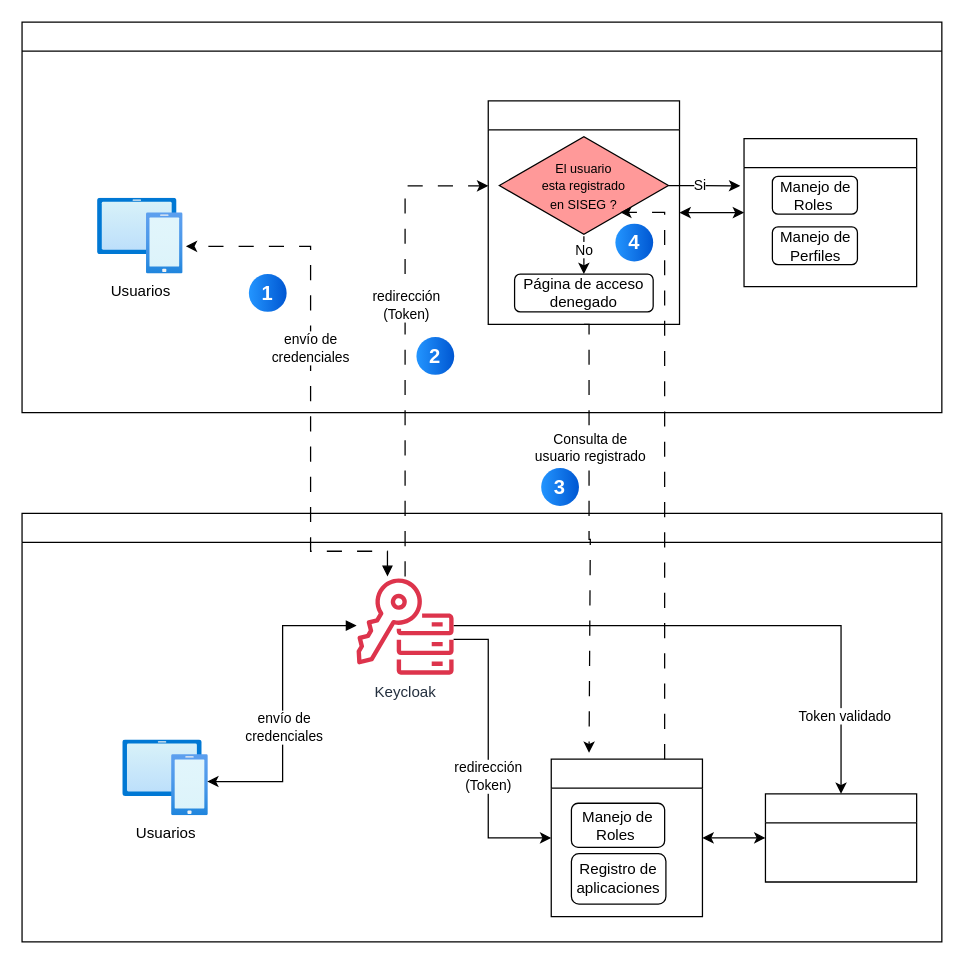
Image size: 964x964. Some labels were removed from this diagram. Each missing label, with the box of its shape:
Antiguo SIGED: (21, 512, 942, 942)
NSIGED- Backend: (743, 137, 917, 287)
NSIGED- Fronted: (487, 100, 680, 324)
NuevoSIGED: (21, 21, 942, 413)
SIGED- Backend: (764, 793, 917, 882)
SIGED- Fronted: (550, 758, 702, 917)
